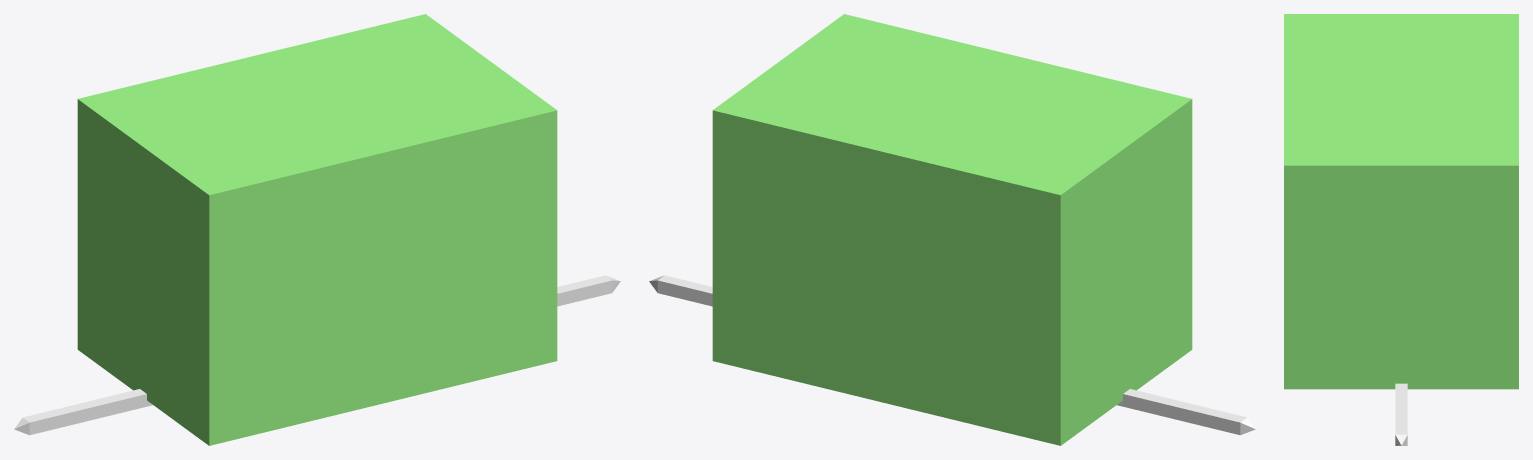
3 renders of one model, left to right at view 1: azimuth 30°, elevation 25°; view 2: azimuth 150°, elevation 25°; view 3: azimuth 270°, elevation 25°, orthographic. The views are drawn at different scales.
Visible parts, largest first — view 1: EQ_01, DEBUG_contiuous_line; view 2: EQ_01, DEBUG_contiuous_line; view 3: EQ_01, DEBUG_contiuous_line.
Part boxes in pixels (bbox=[...]): EQ_01: bbox=[77, 14, 557, 445]; DEBUG_contiuous_line: bbox=[14, 275, 620, 435]; EQ_01: bbox=[712, 14, 1192, 445]; DEBUG_contiuous_line: bbox=[649, 275, 1255, 435]; EQ_01: bbox=[1284, 14, 1518, 389]; DEBUG_contiuous_line: bbox=[1395, 383, 1407, 445].
Bounding box in the file's own units: 1 × 0.4046 × 0.3756.
